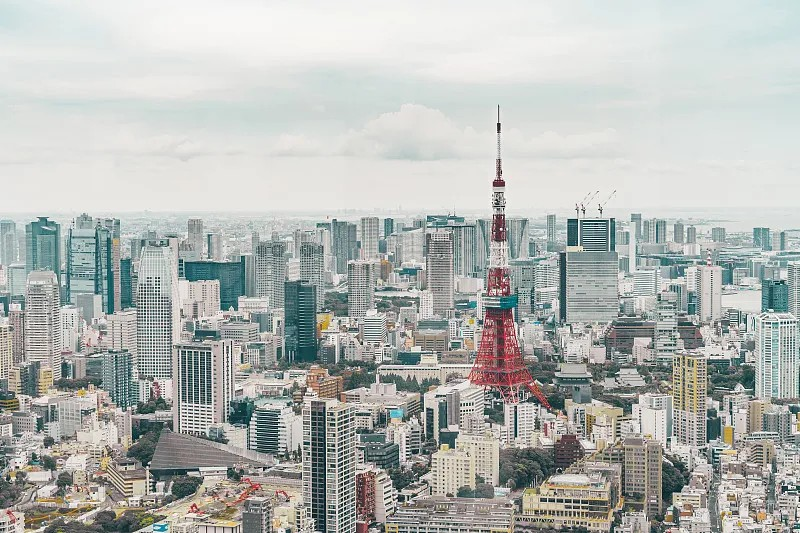Tokyo: (470, 101, 549, 411)
